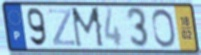3: (127, 5, 149, 50)
4: (103, 6, 126, 49)
9: (26, 7, 48, 48)
M: (70, 6, 106, 49)
O: (151, 8, 178, 49)
Z: (48, 8, 77, 47)
